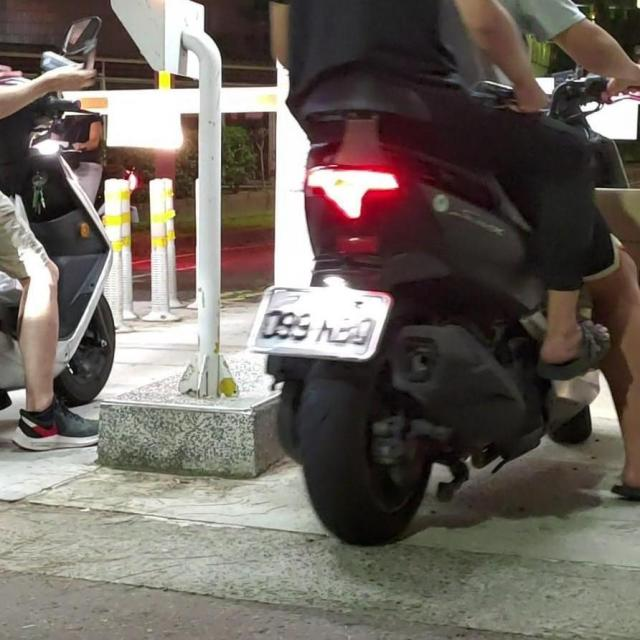W: (248, 277, 394, 363)
